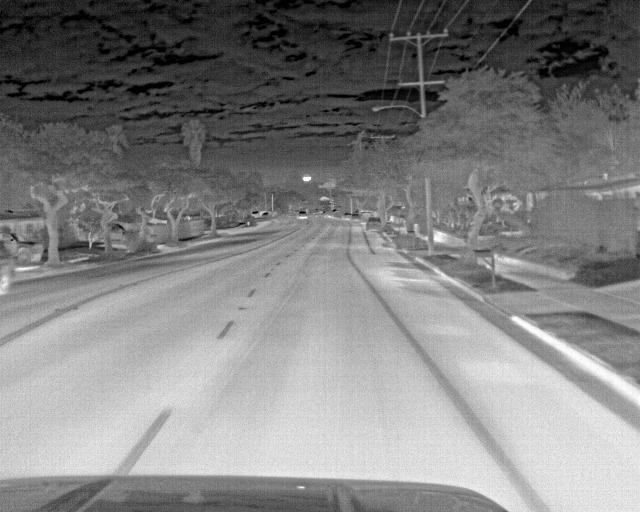car: (1, 228, 44, 262), (0, 242, 16, 294), (108, 222, 128, 246), (363, 214, 385, 233), (341, 210, 355, 223), (296, 207, 309, 220), (349, 212, 361, 224)
